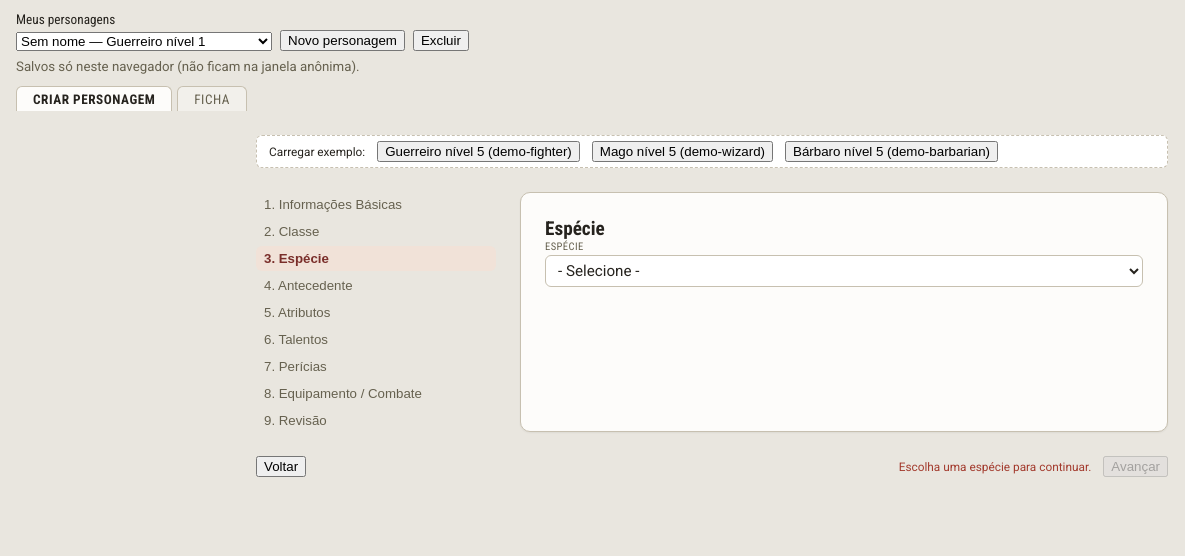
it: BuilderWizard — canAdvance explica exatamente o que falta (CONSOLIDAÇÃO DO BUILDER §9) › 'Espécie' e 'Antecedente' bloqueiam Avançar até serem escolhidos
expect the list item "Escolha uma espécie para continuar." is shown: met, box [899,460,1091,474]
Select "Humano" in the dropdown labelled "Espécie" at (844, 271), box [545,255,1143,287]
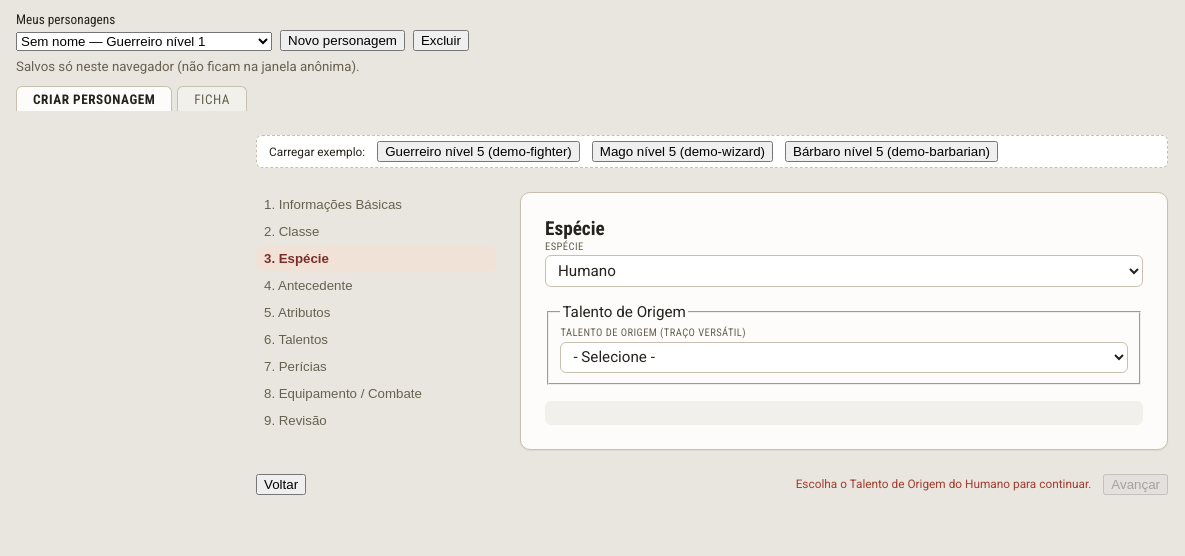
expect the list item "Escolha uma espécie para continuar." is gone: met
expect the list item "Escolha o Talento de Origem do Humano para continuar." is shown: met, box [796,477,1091,491]
Select "Alerta" in the dropdown labelled "Talento de Origem (traço Versátil)" at (844, 358), box [560,342,1128,373]
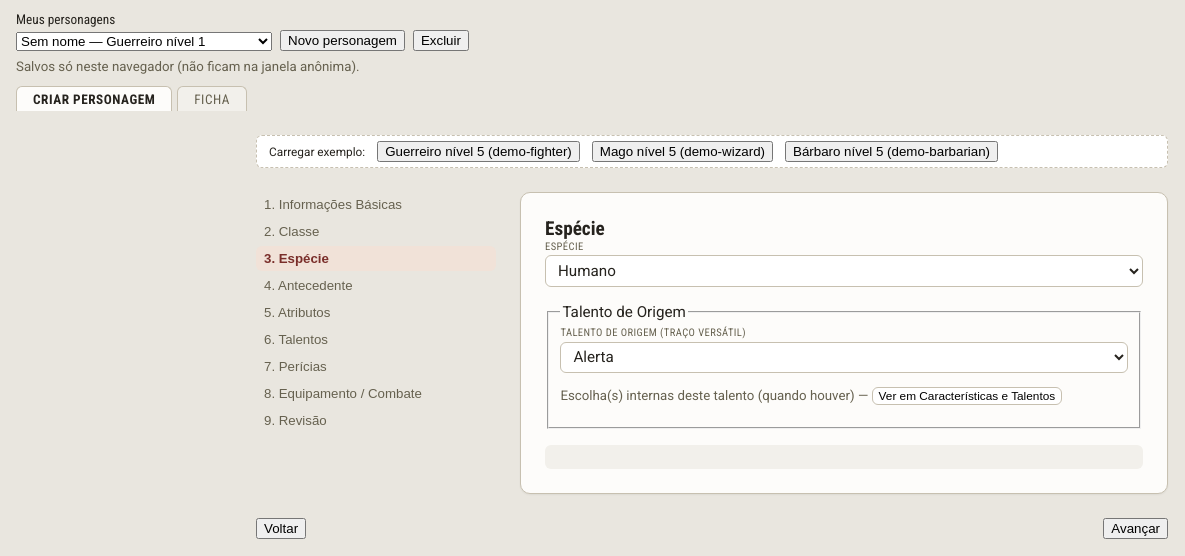
expect the list item "Escolha o Talento de Origem do Humano para continuar." is gone: met
Click the button "Avançar".
click(1136, 529)  # box [1103,518,1168,539]
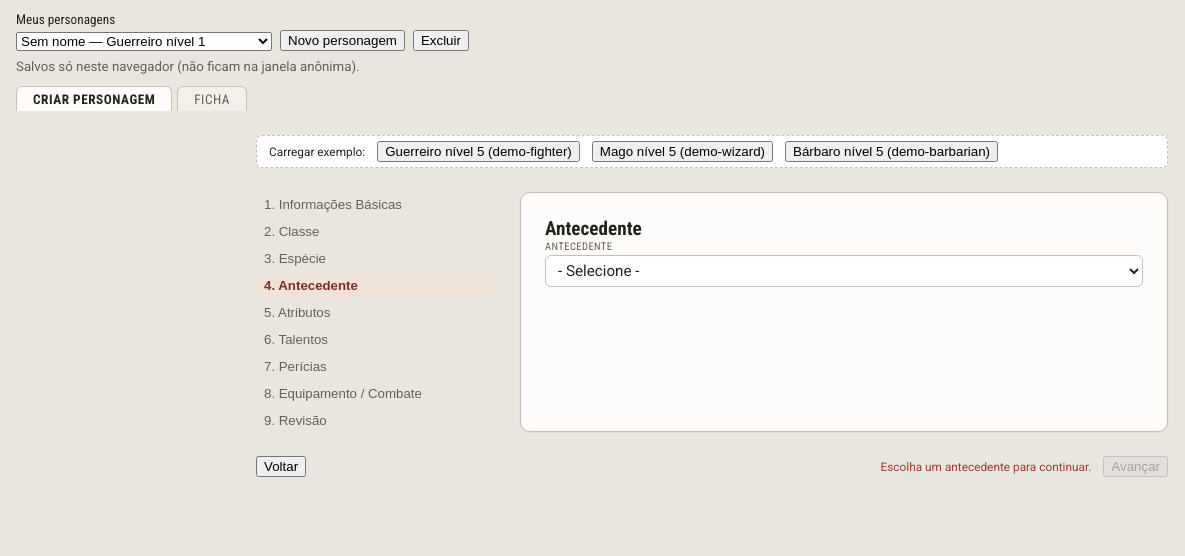
expect the list item "Escolha um antecedente para continuar." is shown: met, box [880,460,1091,474]
Select "Acólito" in the dropdown labelled "Antecedente" at (844, 271), box [545,255,1143,287]
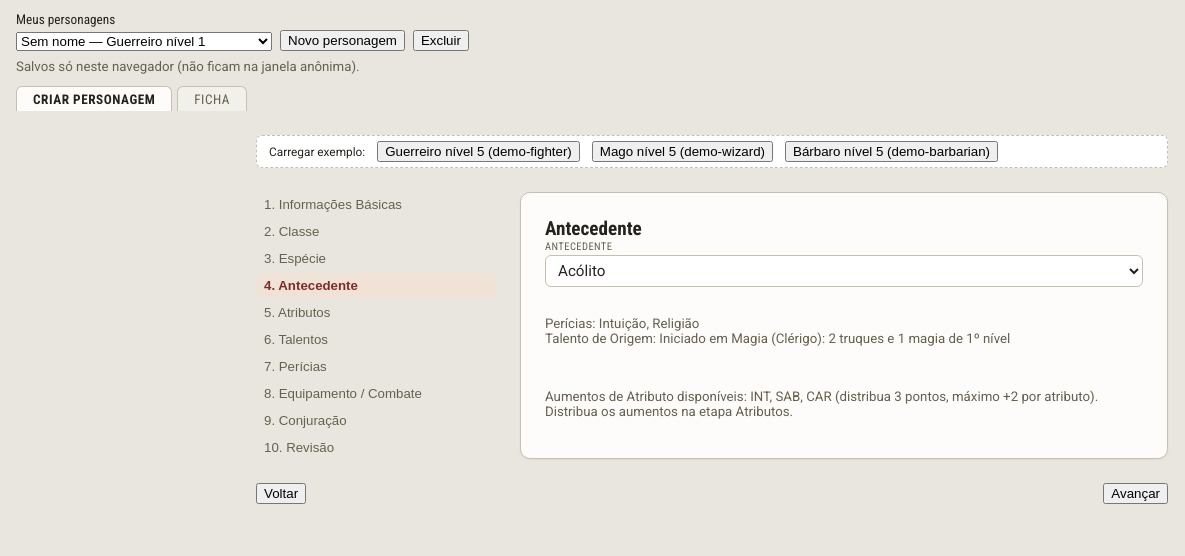
expect the list item "Escolha um antecedente para continuar." is gone: met
